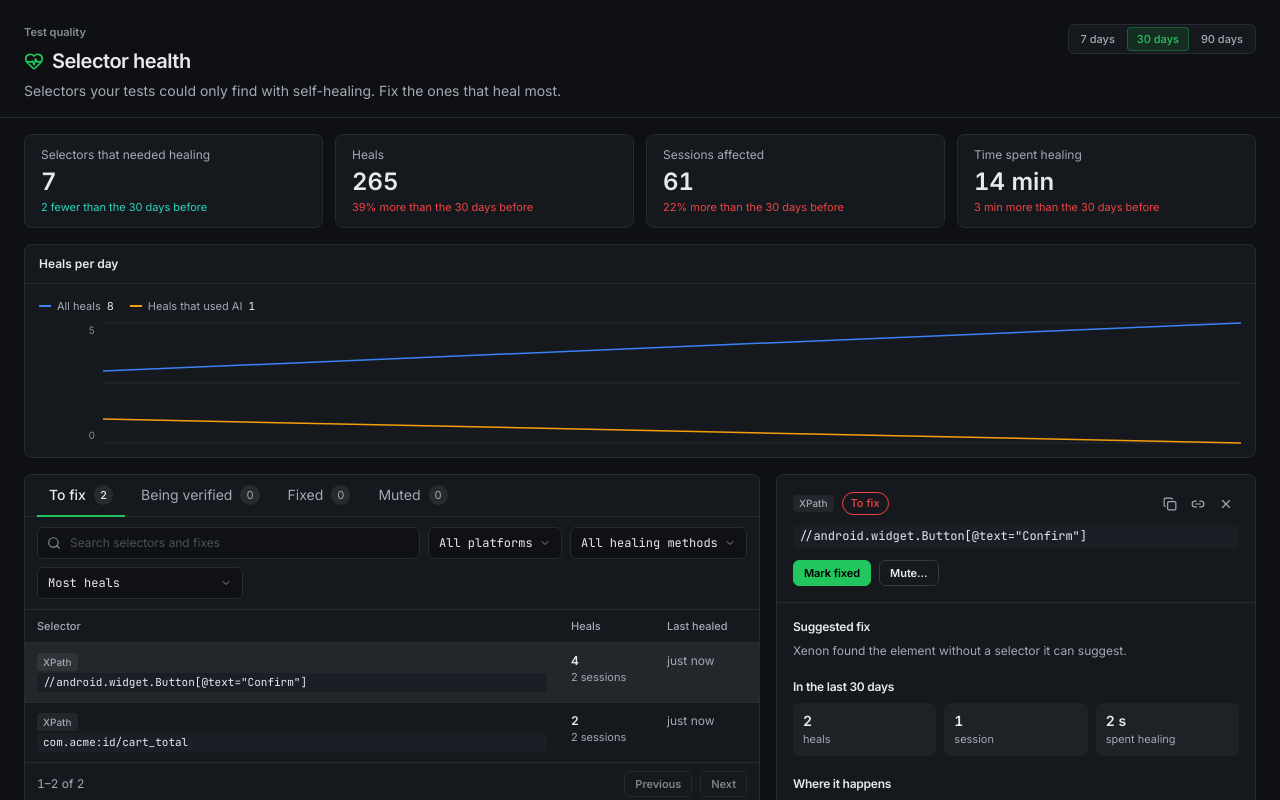
Test: SelectorHealthPage › refreshes the list after an action, and keeps the panel open on the new status
Click the button "Mute…" at (909, 573), box top-left (879, 560), bottom-right (938, 586)
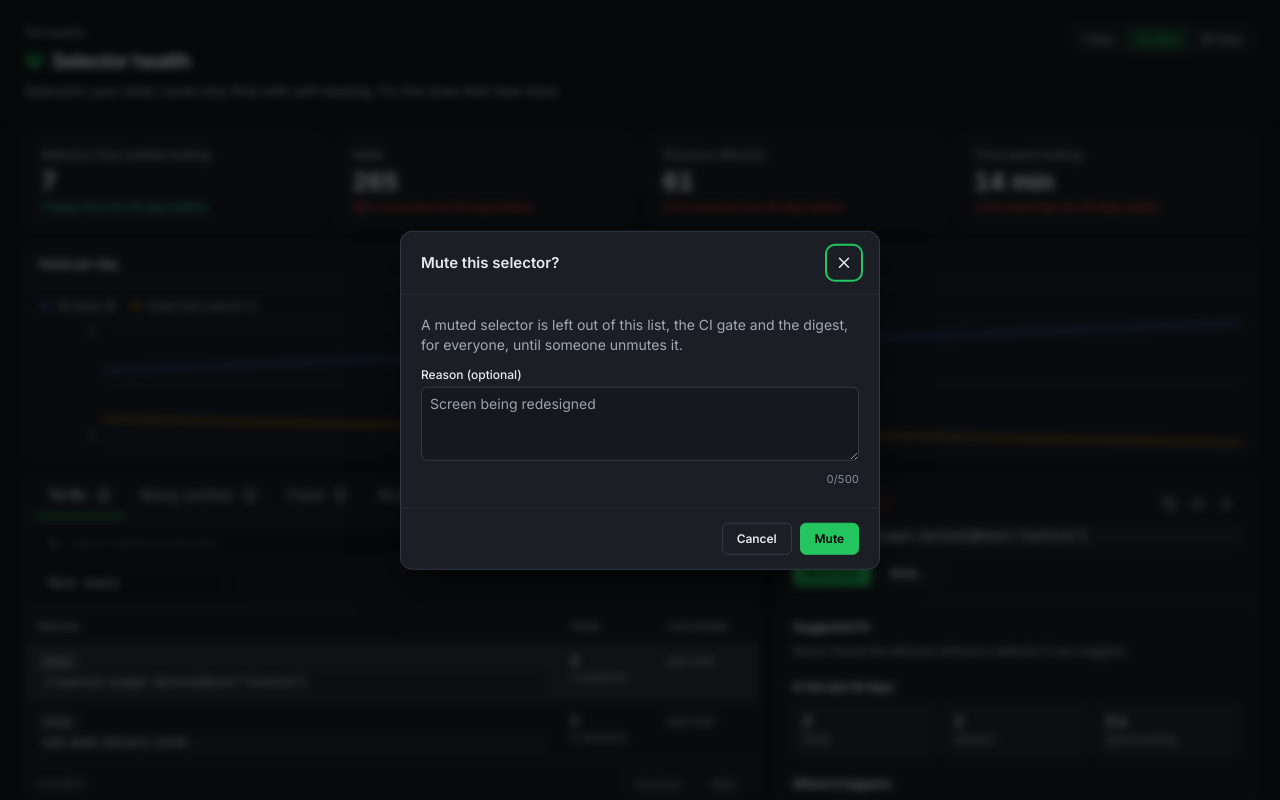
Click the button "Mute" at (829, 538), box top-left (800, 522), bottom-right (859, 554)
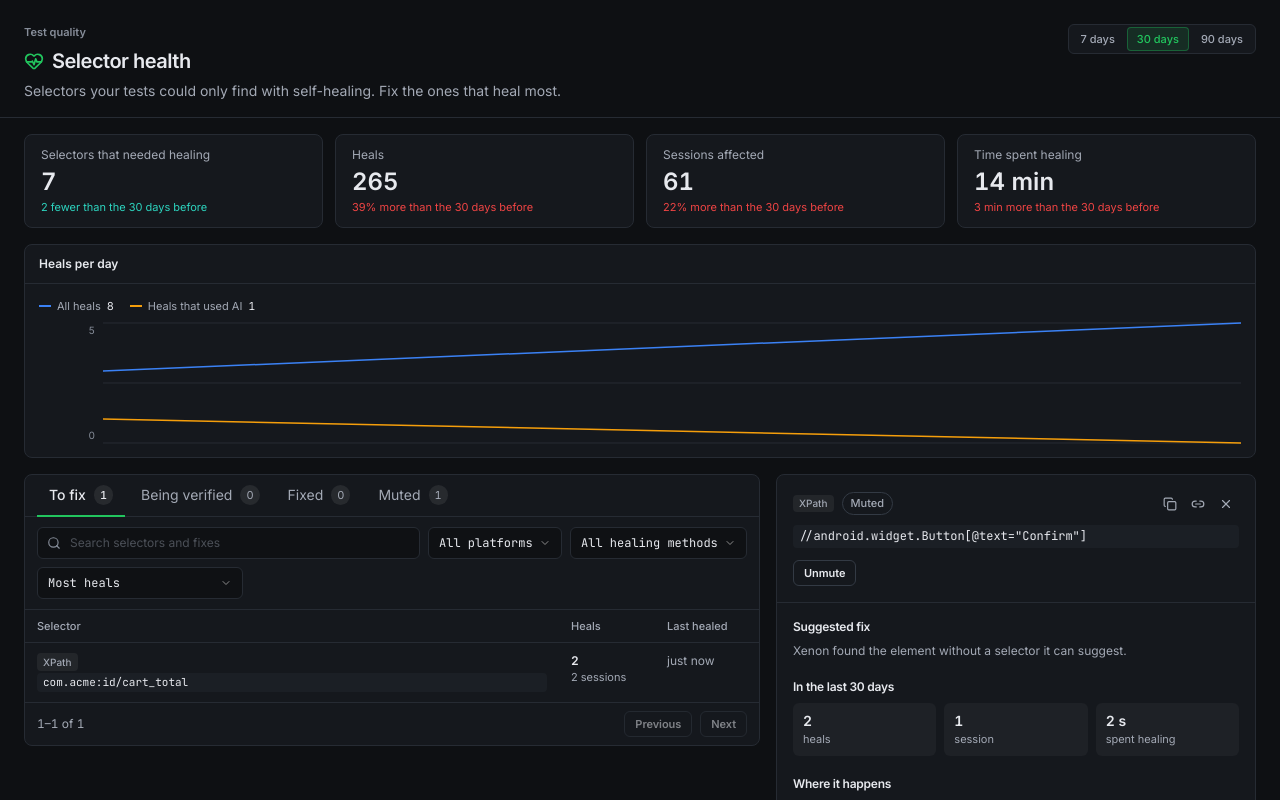
Expected: the number of rows is 2, top-left (25, 610), bottom-right (759, 642); top-left (25, 642), bottom-right (759, 702)
Now the text "Muted" is shown, box top-left (842, 492), bottom-right (893, 515)
